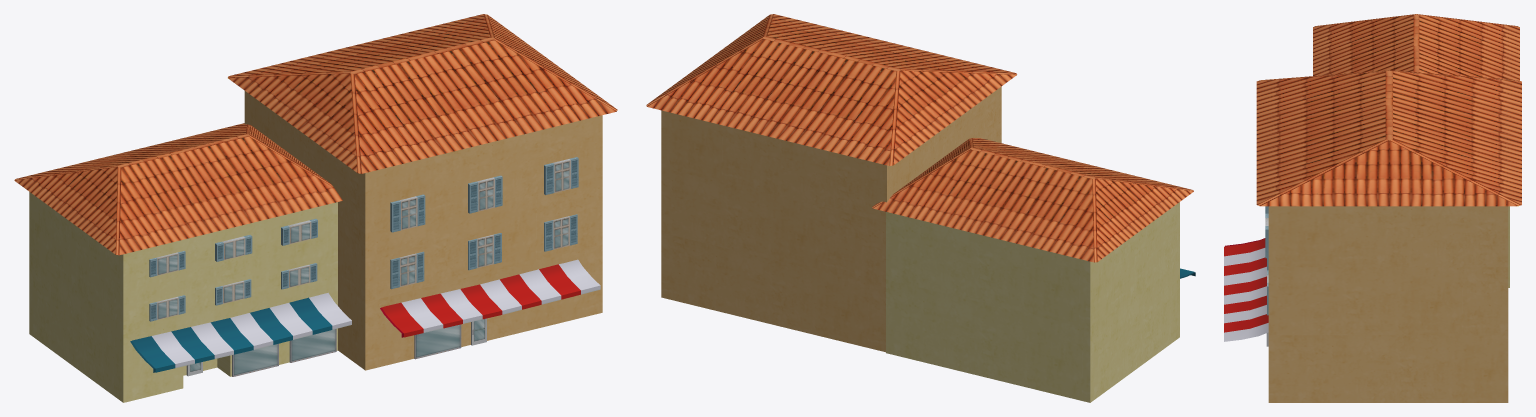
File: Houses_01.FBX
The picture shows the model from 3 angles, left to right: view 1: azimuth 30°, elevation 25°; view 2: azimuth 150°, elevation 25°; view 3: azimuth 270°, elevation 25°; orthographic projection. The views are drawn at different scales.
Parts seen in each view (by area): view 1: Houses_01; view 2: Houses_01; view 3: Houses_01.
Part boxes in pixels (x1,y1,x2,y2): Houses_01: [14, 14, 617, 402]; Houses_01: [646, 14, 1195, 402]; Houses_01: [1224, 14, 1521, 402].
Bounding box in the file's own units: 30.32 × 16.61 × 14.77.
